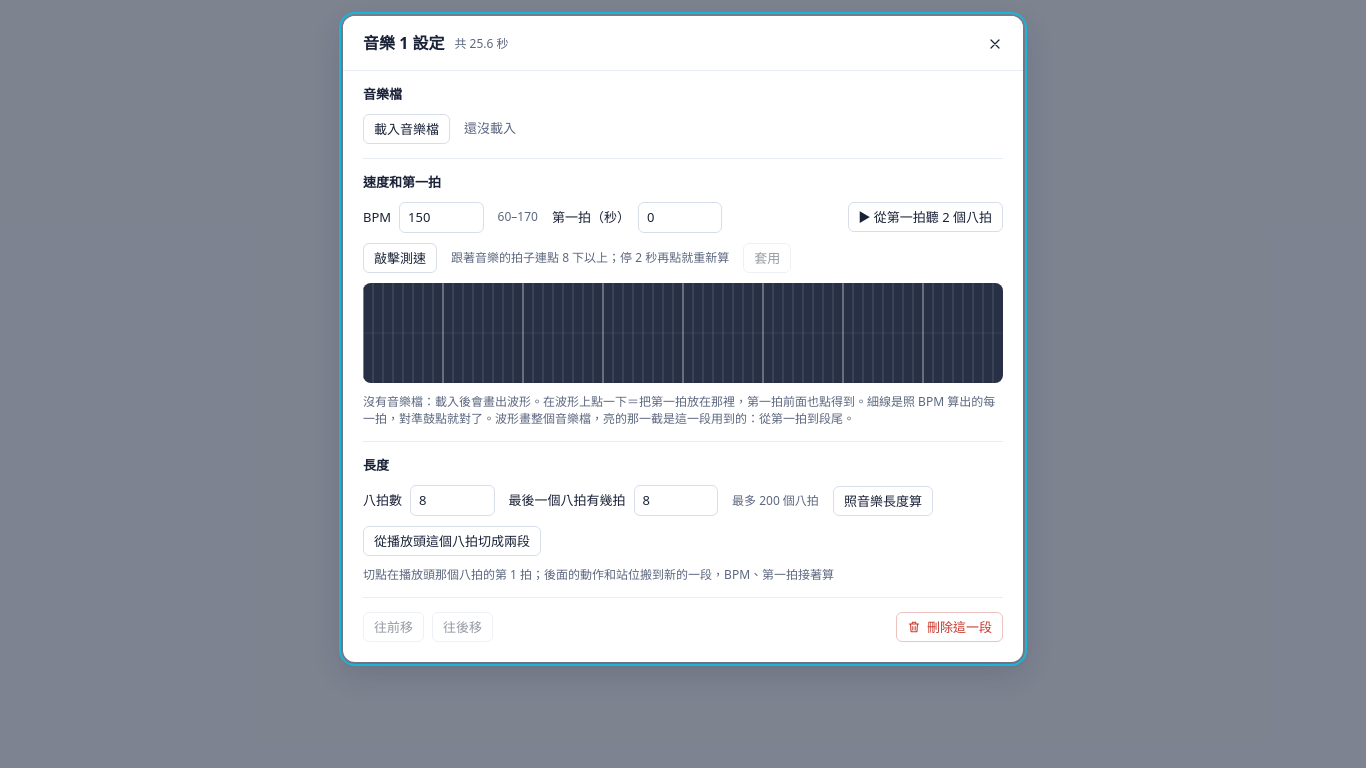
Test case: 音樂段設定 › 還沒載入音樂就按照音樂長度算，提醒先載入
Click the button "照音樂長度算" at (883, 501), box [833, 486, 933, 516]
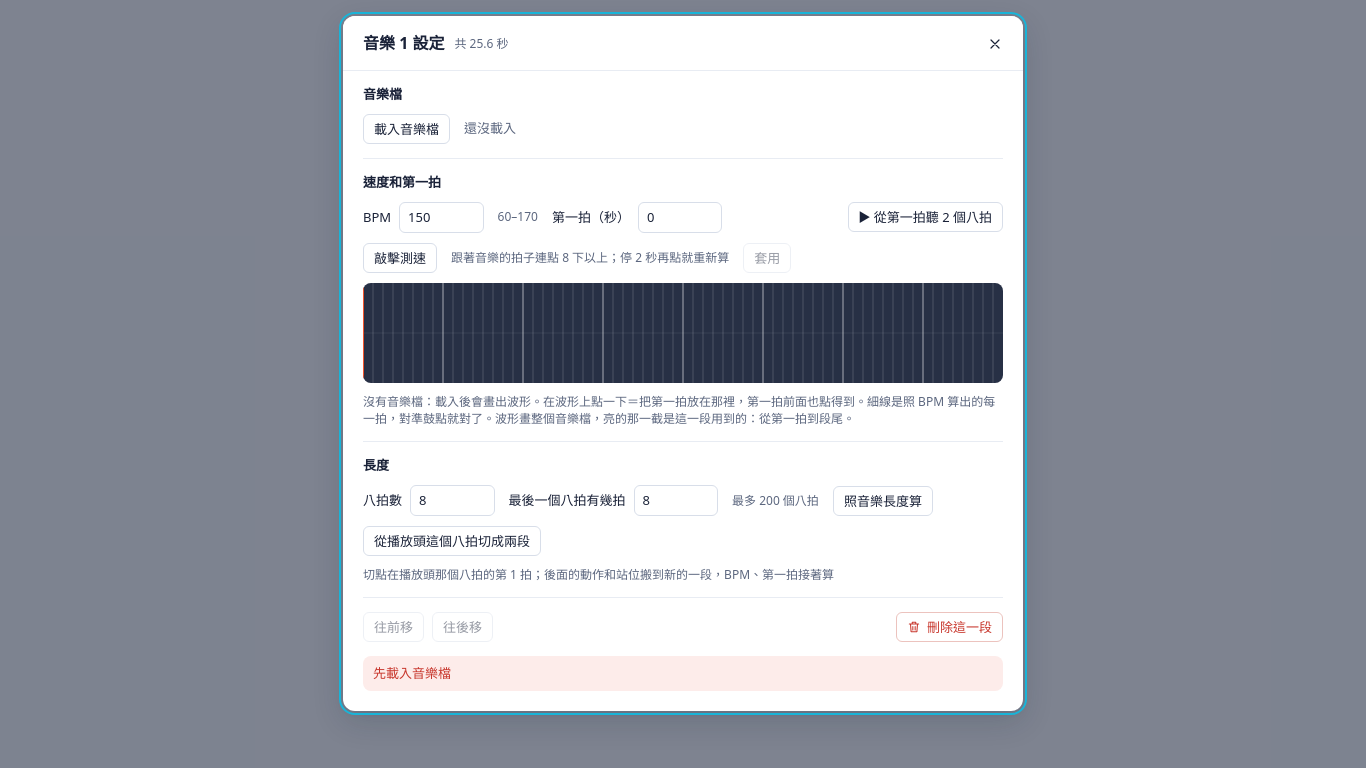
Now the message reads "先載入音樂檔", box [373, 664, 451, 682]
